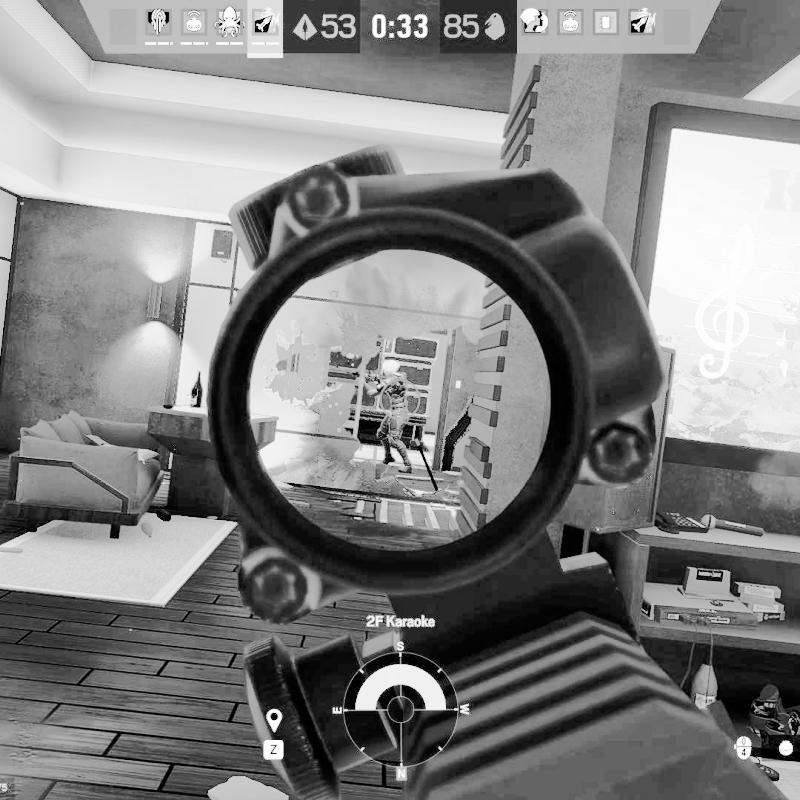Character: (366, 360, 422, 471)
Head: (381, 361, 402, 382)
